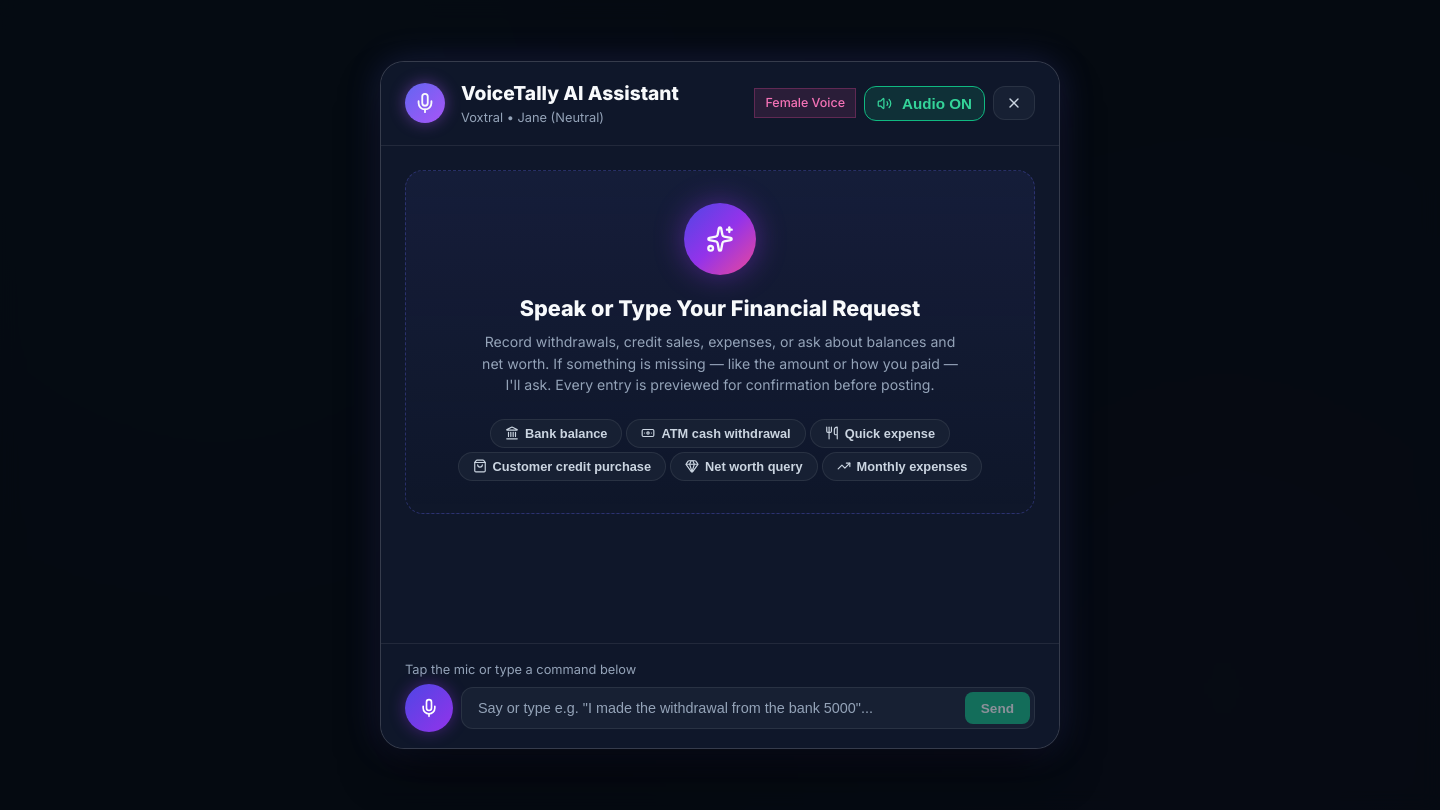
it: UI: VoiceAgentModal & Studio Components › opens the confirmation popup for a preview with its date and new accounts
This screenshot has width=1440, height=810.
Replace the text in the field with placeholder "Say or type" with "gave 2000 to Mohan yesterday" at (713, 708), box [466,692,961,724]
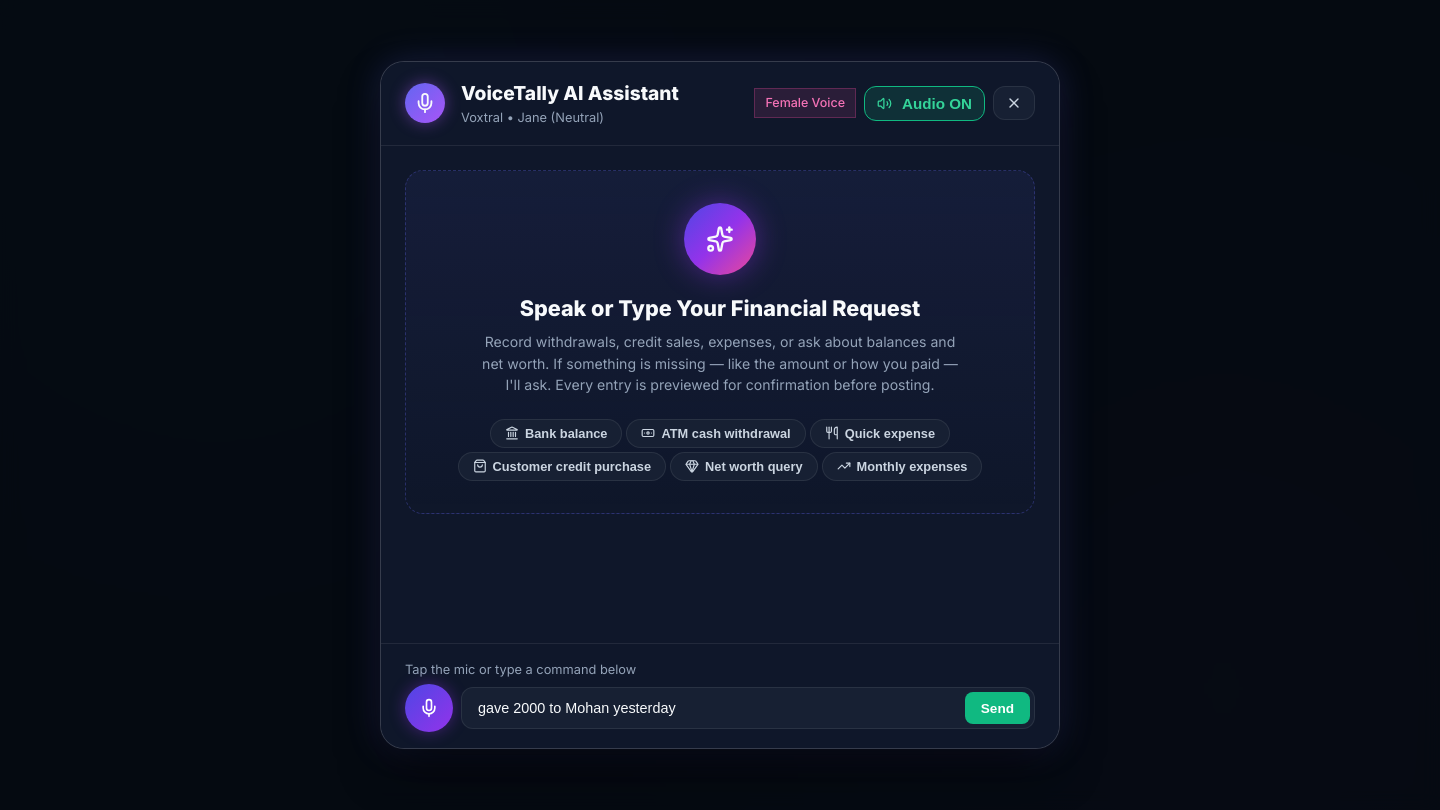
Click the button "Send" at (997, 708), box [965,692,1030,724]
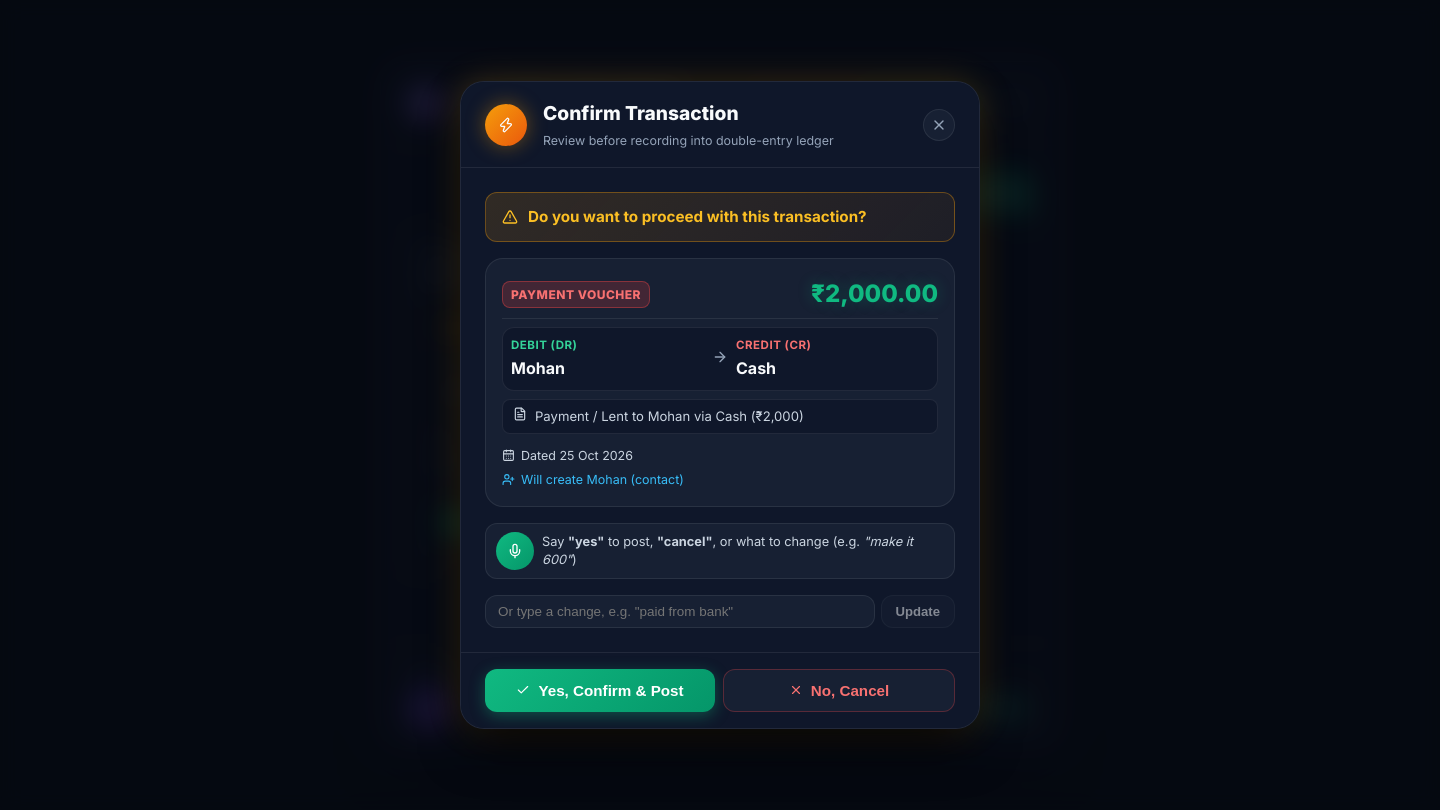
Result: the text "Dated 25 Oct 2026" is shown at [502,448,633,463]
Result: the text "Will create Mohan (contact)" is shown at [502,472,684,487]
Result: the button named "Answer by voice" is shown at [496,532,534,570]
